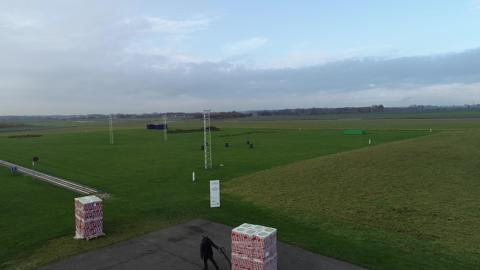RockwoolPallet: (72, 196, 105, 239)
